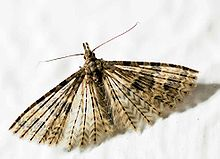Alucitidae: (6, 19, 199, 151)
moth: (8, 21, 201, 153)
